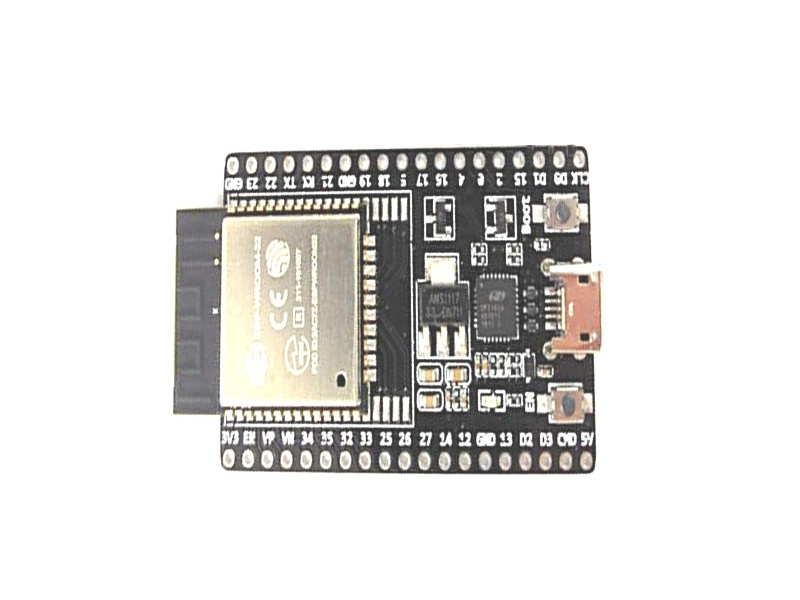esp32: (147, 101, 644, 515)
